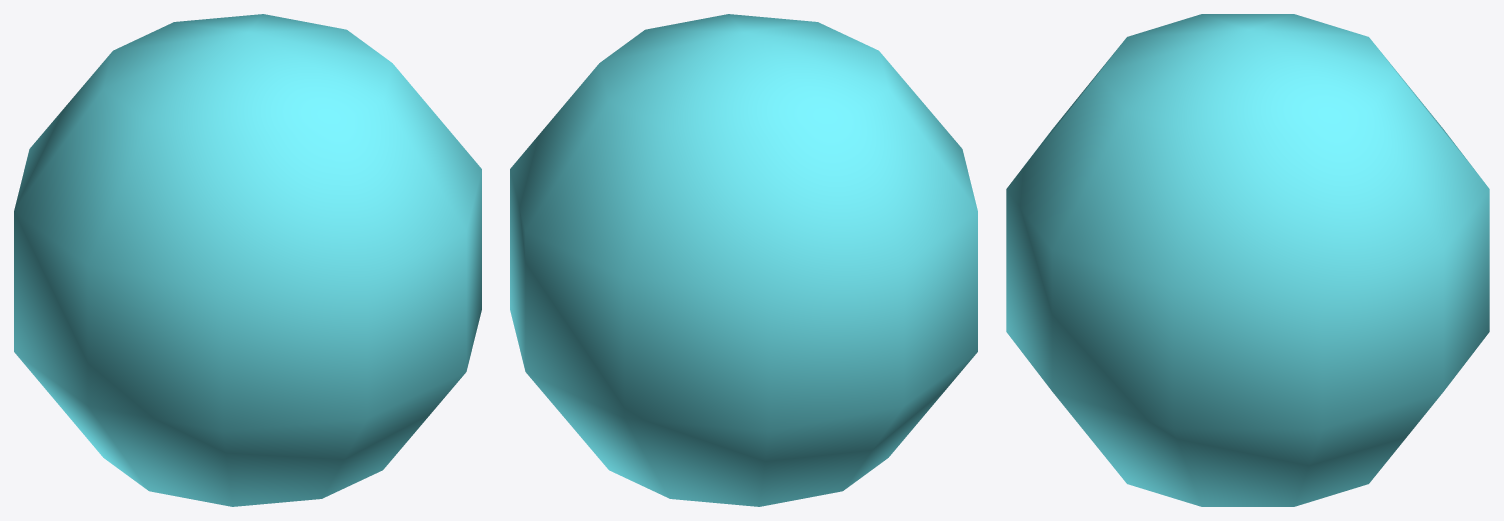
File: SphereNode.FBX
The picture shows the model from 3 angles, left to right: view 1: azimuth 30°, elevation 25°; view 2: azimuth 150°, elevation 25°; view 3: azimuth 270°, elevation 25°; orthographic projection.
Parts seen in each view (by area): view 1: Sphere001; view 2: Sphere001; view 3: Sphere001.
Boxes of the visible parts, x1,y1,x2,y2 form: Sphere001: (14, 14, 481, 506); Sphere001: (510, 14, 977, 506); Sphere001: (1006, 14, 1489, 506).
Bounding box in the file's own units: 1.81 × 2 × 1.9.
